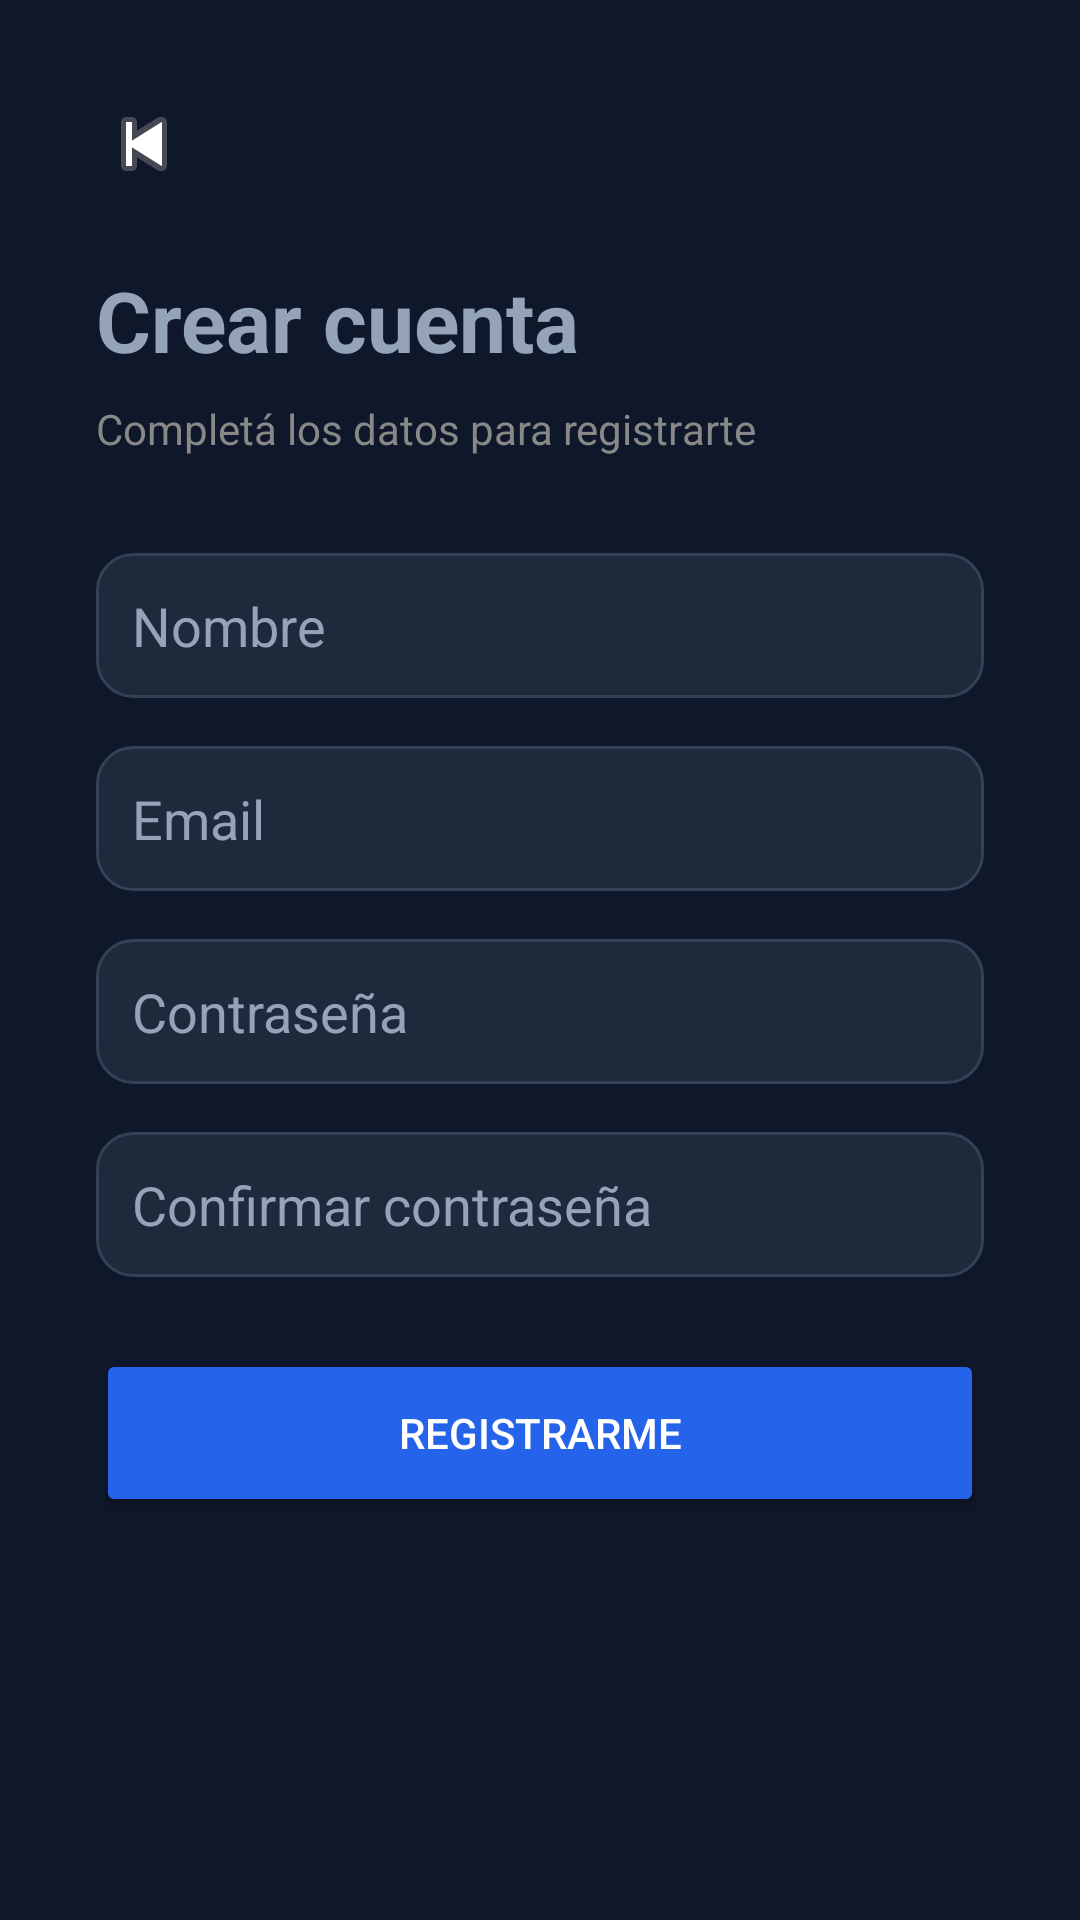

Screen size 1080*1920. Icon name, then its box in pixels as (x1, y1, x2, y2):
Volver: (121, 117, 167, 171)
